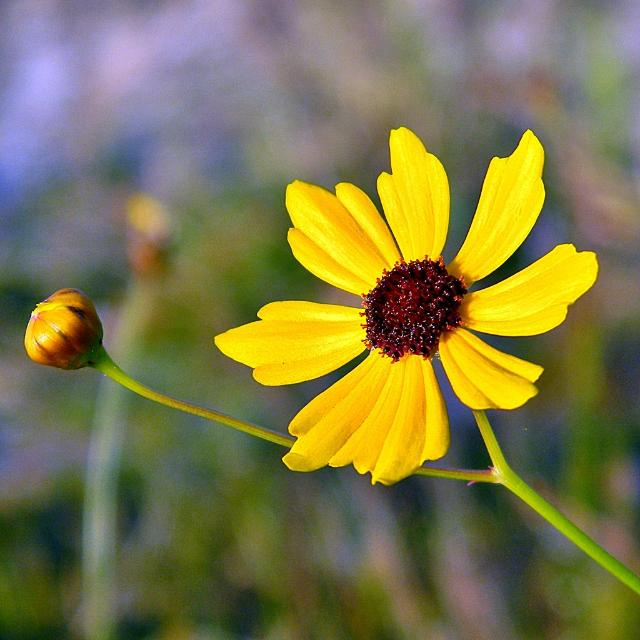Flower: (240, 132, 600, 482), (20, 286, 108, 370)
